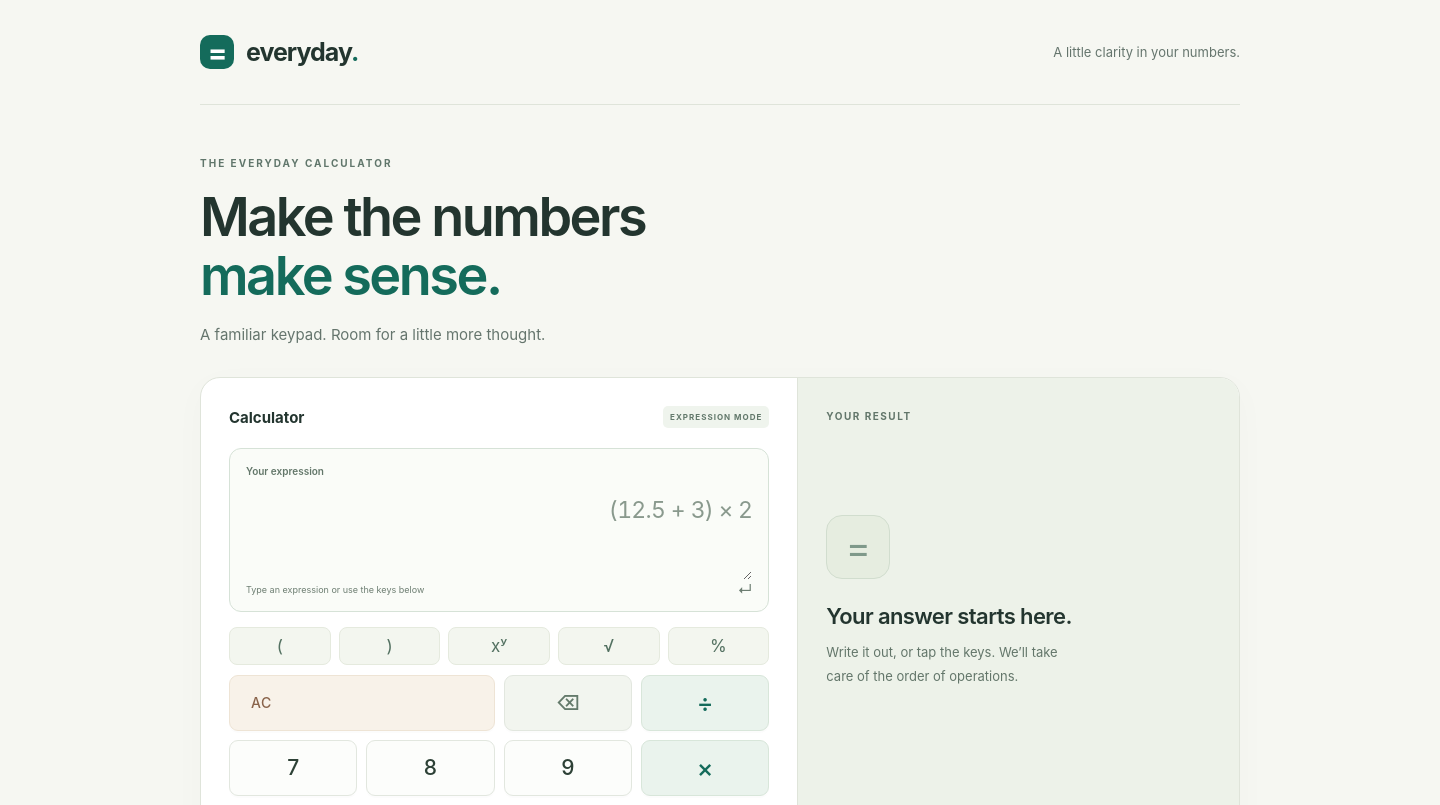
expression calculator › explains corrections and clears the notice on editing or an unchanged submission
Step 1. Type "2*(3+4+" into the text box labelled "Your expression" → (499, 529), box [246,477,752,580]
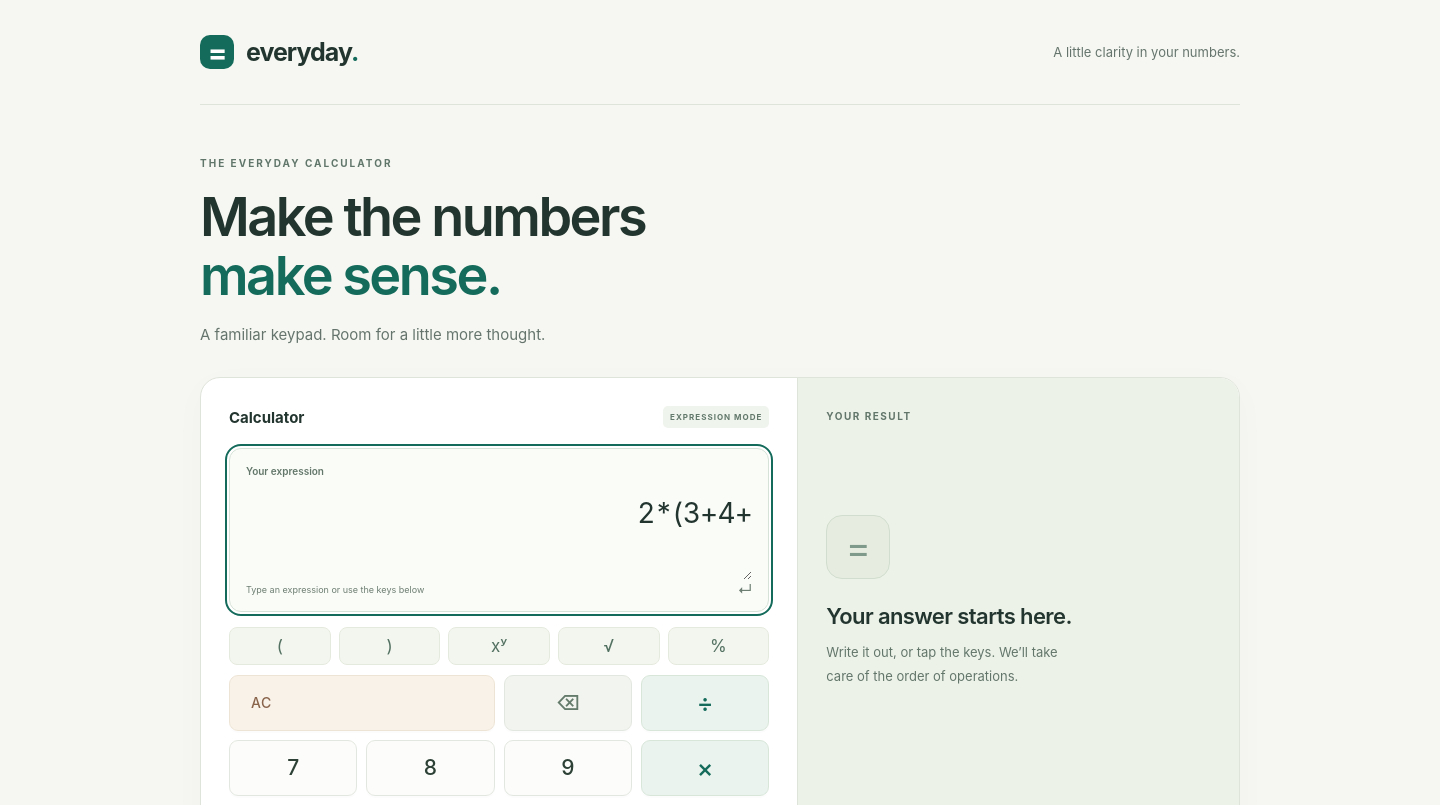
Step 2. Press Enter
(page scrolled)
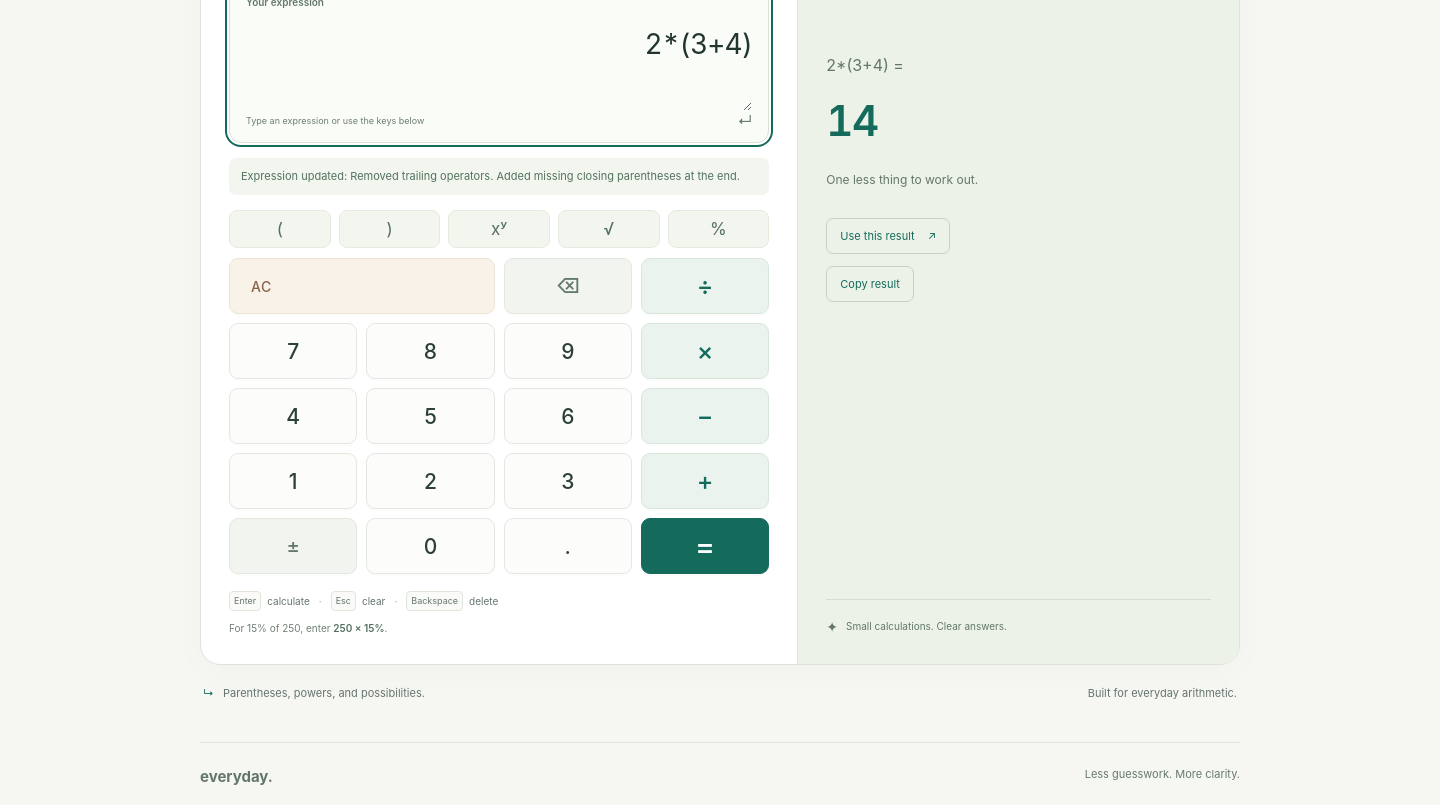
Check: the text "Expression updated" shows "Removed trailing operators. Added missing closing parentheses at the end.", box [350,169,740,183]
Check: the text named "Result" is shown, box [826,94,878,149]
Step 3. Click the button named "Calculate" → (705, 546), box [641,518,769,574]
(page scrolled)
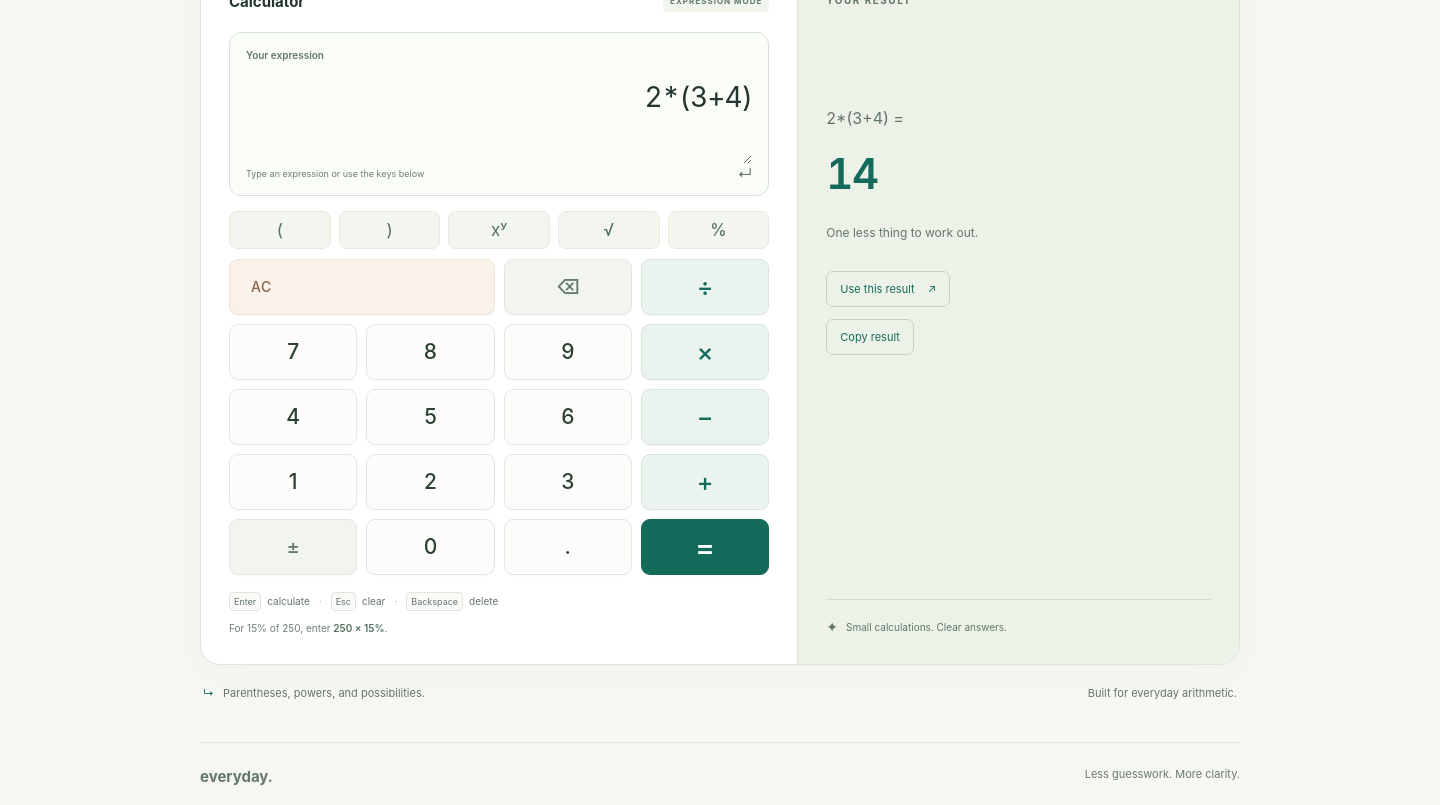
Check: the text named "Result" is shown, box [826,147,878,202]
Check: the text "Expression updated" is gone
Step 4. Type "+" into the text box labelled "Your expression" → (499, 113), box [246,61,752,164]
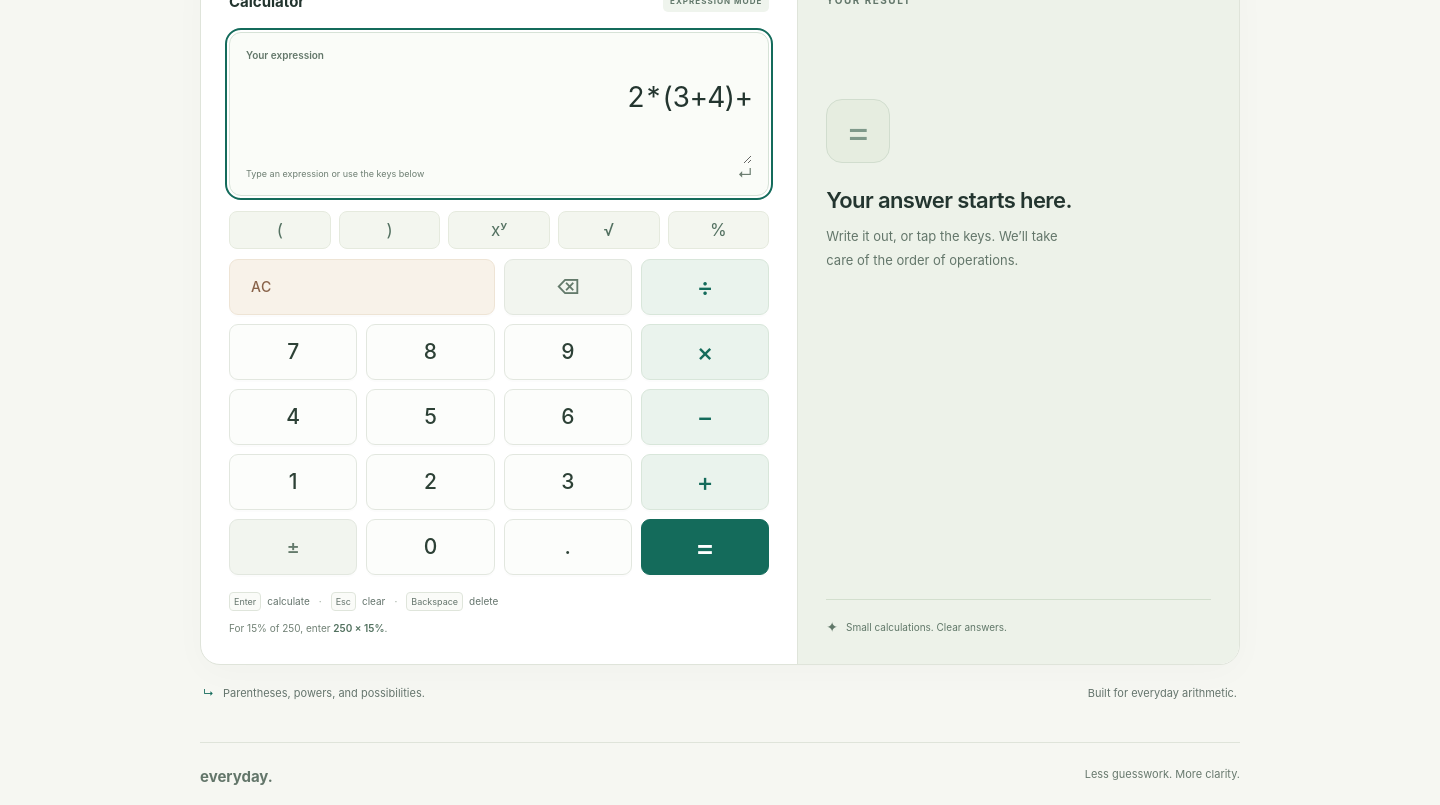
Step 5. Click the button named "Calculate" → (705, 547), box [641,519,769,575]
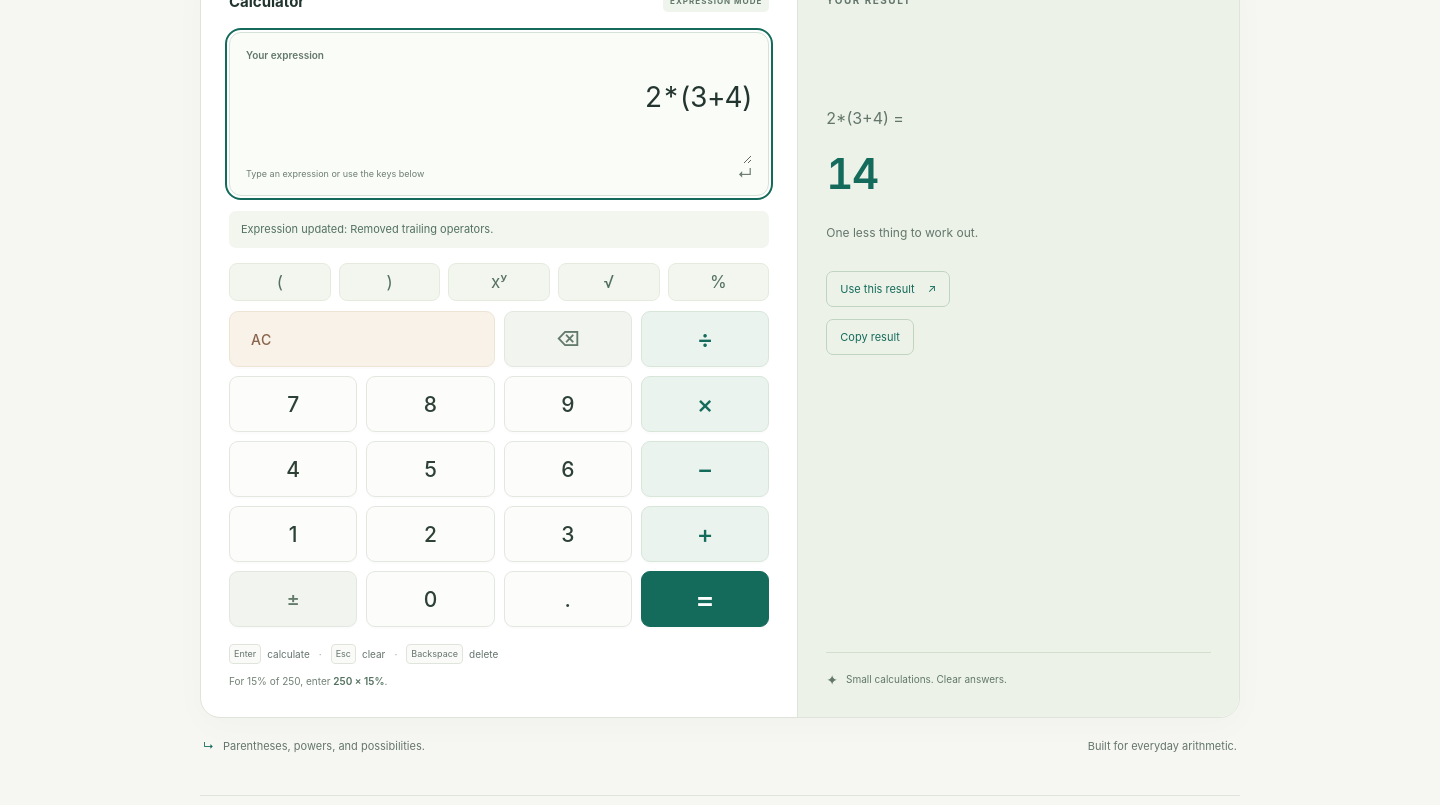
Check: the text named "Result" is shown, box [826,147,878,202]
Check: the text "Expression updated: Removed trailing operators." is shown, box [229,211,769,248]
Step 6. Click the button with aria-label "Clear all" → (261, 339), box [229,312,495,368]
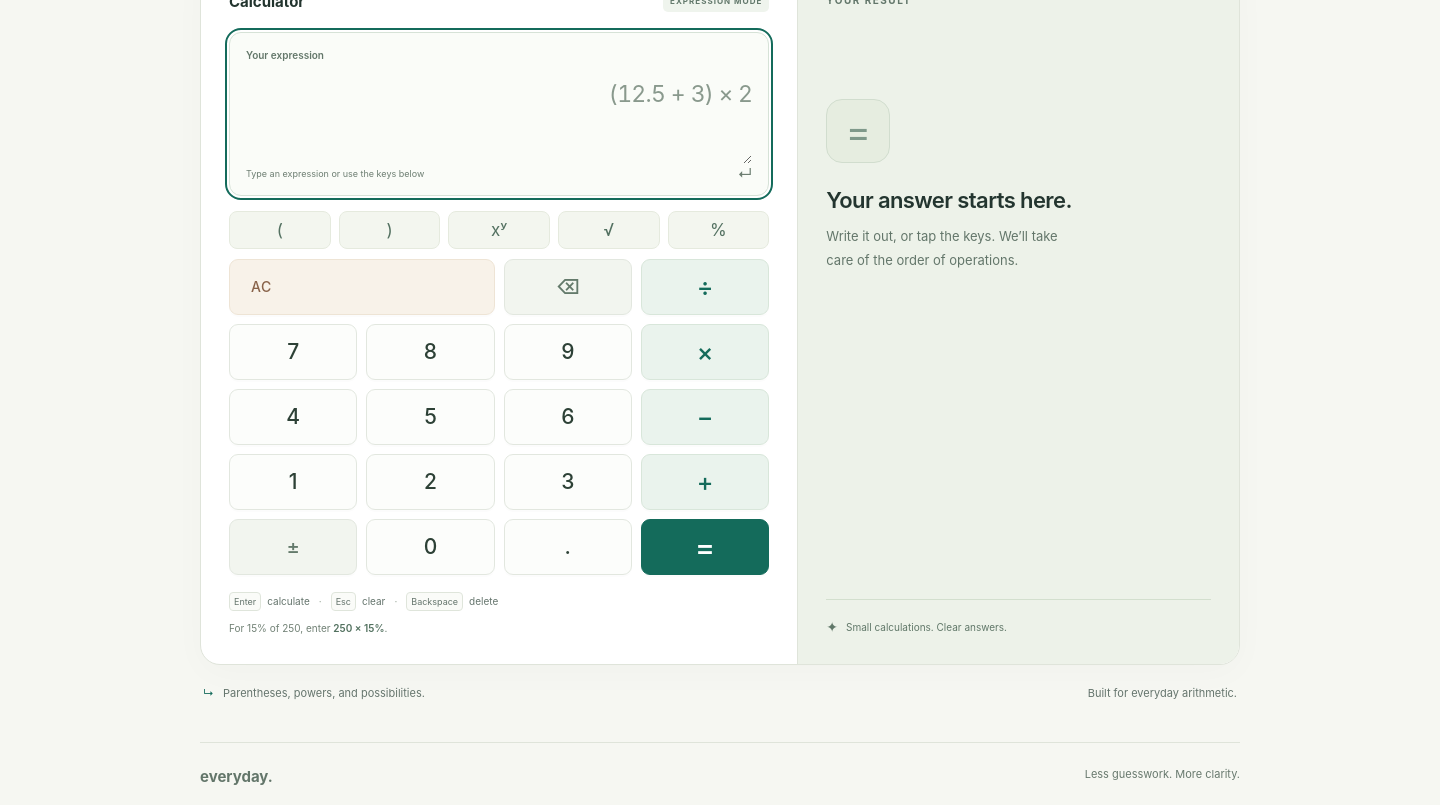
Check: the text "Expression updated" is gone
